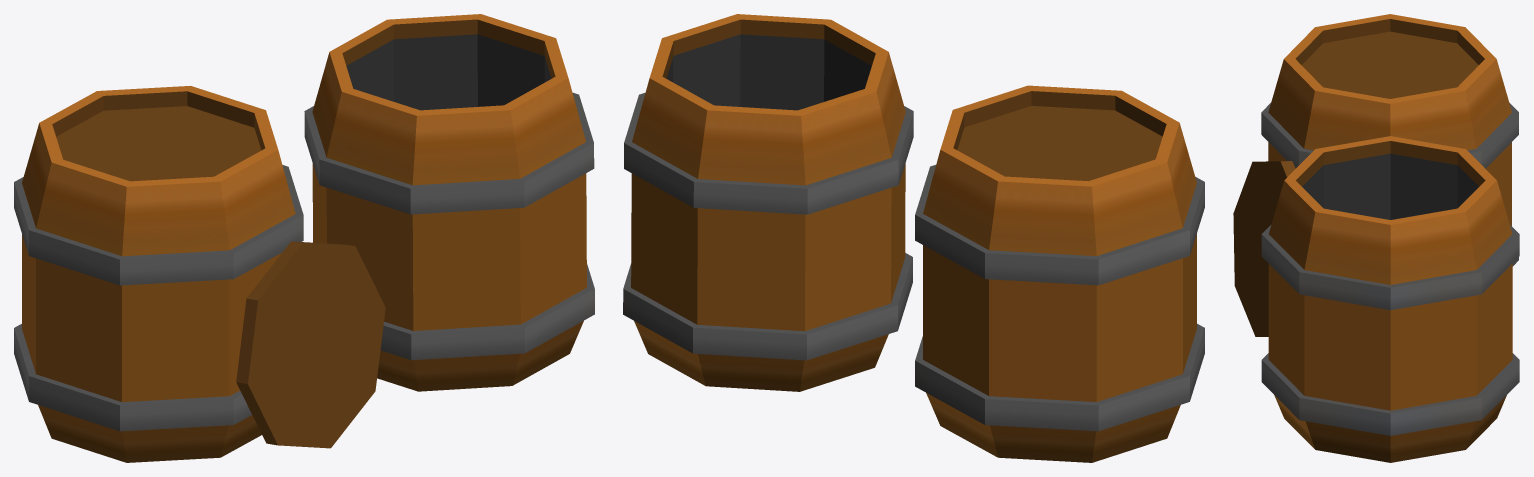
Rendered from BarrioIlha.glb.
The picture shows the model from 3 angles, left to right: view 1: azimuth 30°, elevation 25°; view 2: azimuth 150°, elevation 25°; view 3: azimuth 270°, elevation 25°; orthographic projection. The views are drawn at different scales.
Visible parts, largest first — view 1: BarrioIlha2, BarrioIlha1; view 2: BarrioIlha2, BarrioIlha1; view 3: BarrioIlha2, BarrioIlha1.
Boxes of the visible parts, x1=… form: BarrioIlha2: x1=236, y1=14, x2=594, y2=448; BarrioIlha1: x1=14, y1=86, x2=303, y2=462; BarrioIlha2: x1=623, y1=14, x2=913, y2=391; BarrioIlha1: x1=915, y1=85, x2=1204, y2=462; BarrioIlha2: x1=1233, y1=136, x2=1519, y2=462; BarrioIlha1: x1=1261, y1=14, x2=1518, y2=266.
Size of the model in its own units: 3.77 by 1.84 by 1.97.
1 material, 1 textured.
